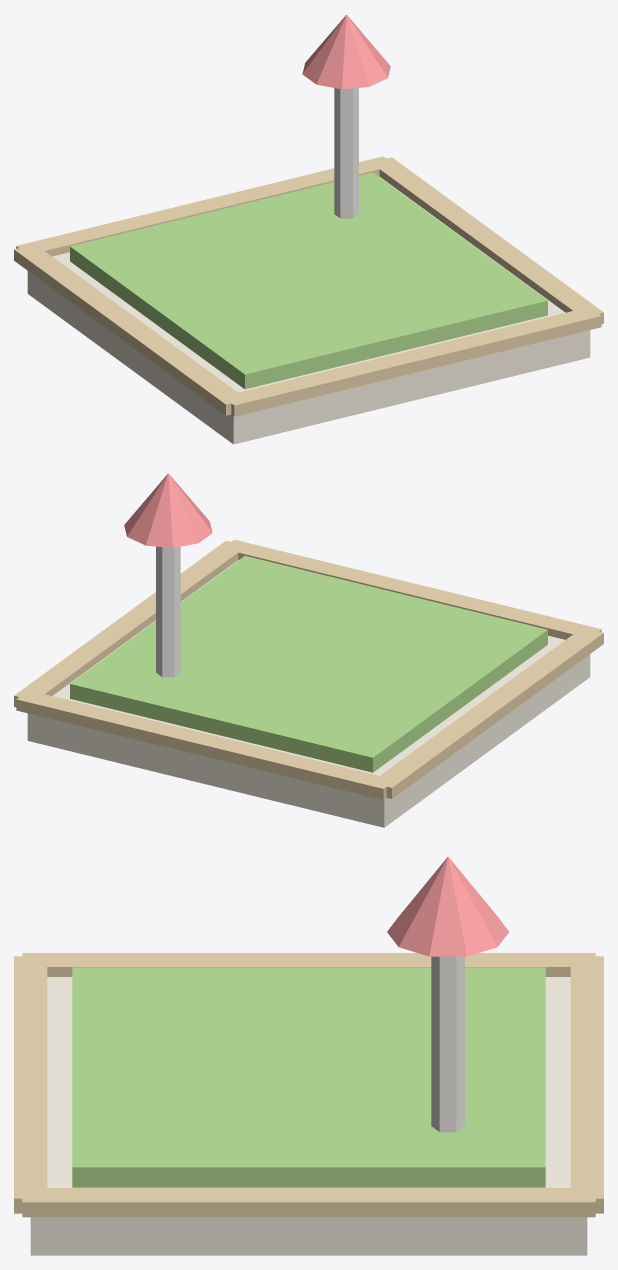
File: city.golf.glb
3 views of the same model, one above another, from view 1: azimuth 30°, elevation 25°; view 2: azimuth 150°, elevation 25°; view 3: azimuth 270°, elevation 25° (orthographic). The views are drawn at different scales.
Parts seen in each view (by area): view 1: city.golf; view 2: city.golf; view 3: city.golf.
Boxes of the visible parts, box(x1,y1,x2,y2) form: city.golf: box(14, 14, 603, 444); city.golf: box(14, 473, 603, 827); city.golf: box(14, 856, 603, 1255).
Size of the model in its own units: 2.12 by 1.35 by 2.12.
